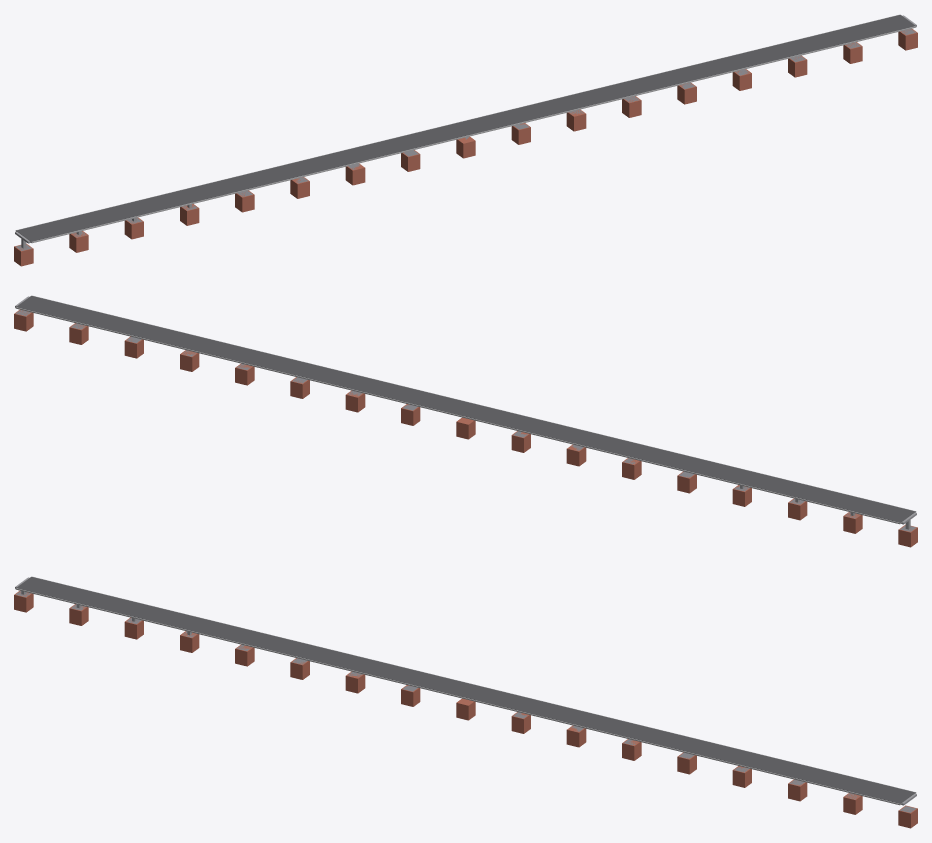
The model's file is preview.glb.
3 renders of one model, top to bottom at view 1: azimuth 30°, elevation 25°; view 2: azimuth 150°, elevation 25°; view 3: azimuth 330°, elevation 25°, orthographic.
Visible parts, largest first — view 1: asphalt/road_surface, deck/deck_slab; view 2: asphalt/road_surface, deck/deck_slab; view 3: asphalt/road_surface, deck/deck_slab.
Boxes of the visible parts, <box> form: asphalt/road_surface: <box>16,14,915,241</box>; deck/deck_slab: <box>15,14,916,243</box>; asphalt/road_surface: <box>16,295,915,522</box>; deck/deck_slab: <box>15,295,916,524</box>; asphalt/road_surface: <box>16,576,915,803</box>; deck/deck_slab: <box>15,576,916,805</box>.
Size of the model in its own units: 507 by 14.18 by 16.
